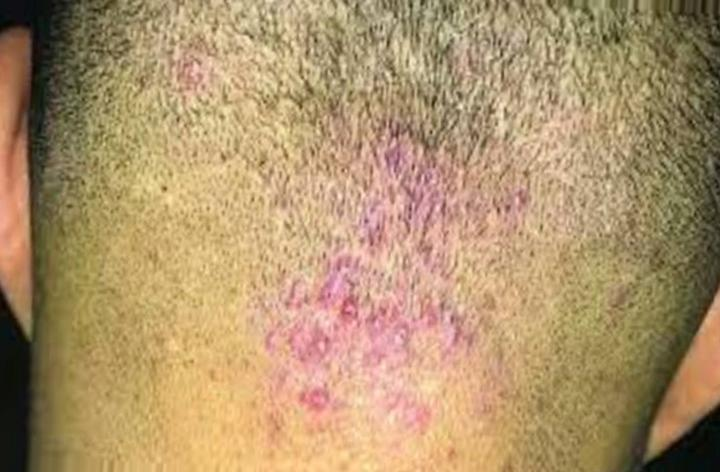Folliculitis: (283, 128, 485, 425)
